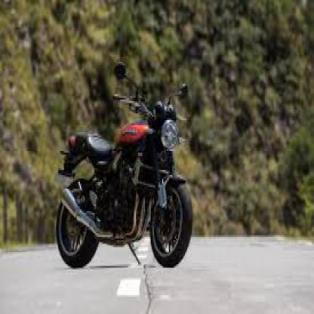Motocicleta: (47, 60, 203, 276)
